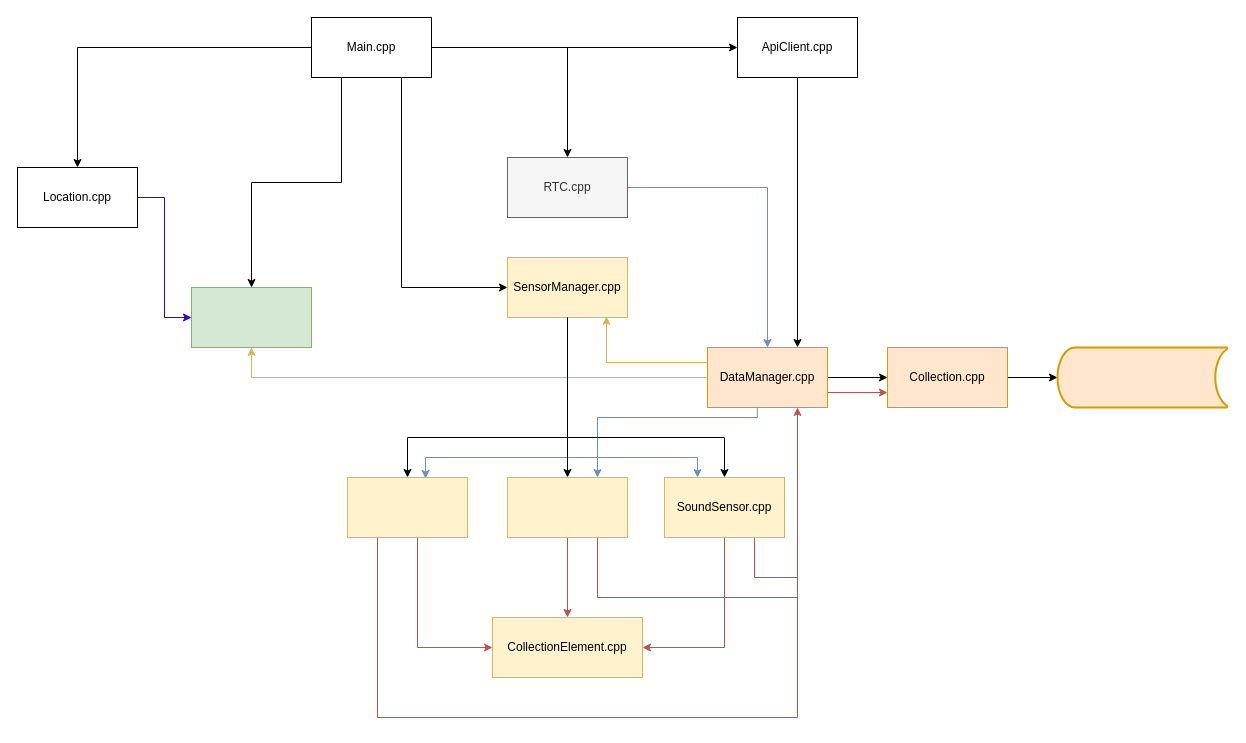
The diagram is 1246 pixels wide and 743 high, and some of its shapes have lost their labels. The shapes that lost their labels are listed below. From the top down, each one's centre as x and y in pixels, then its label:
the point at 251,317: Display.cpp
the point at 1142,377: Map af Vector<CollectionElement>
the point at 407,507: DHTSensor.cpp
the point at 567,507: LightSensor.cpp
